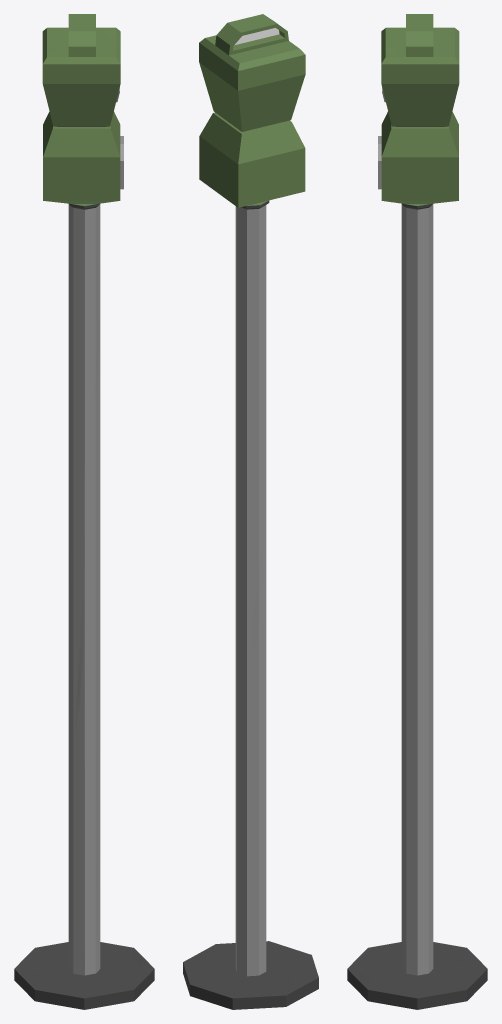
File: Parking_Meter.fbx
3 renders of one model, left to right at view 1: azimuth 90°, elevation 25°; view 2: azimuth 210°, elevation 25°; view 3: azimuth 270°, elevation 25°, orthographic.
Visible parts, largest first — view 1: Parking Meter; view 2: Parking Meter; view 3: Parking Meter.
Boxes of the visible parts, x1,y1,x2,y2 form: Parking Meter: (14,14,154,1009); Parking Meter: (183,14,318,1009); Parking Meter: (347,14,487,1009).
Size of the model in its own units: 9.1 by 68.46 by 9.1.
